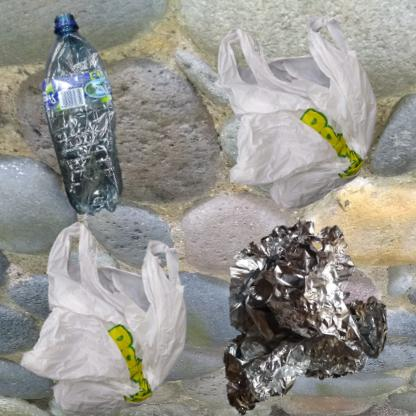aluminio: (213, 213, 396, 416)
bolsa: (10, 213, 222, 416), (213, 10, 391, 223)
botella: (10, 10, 179, 249)
